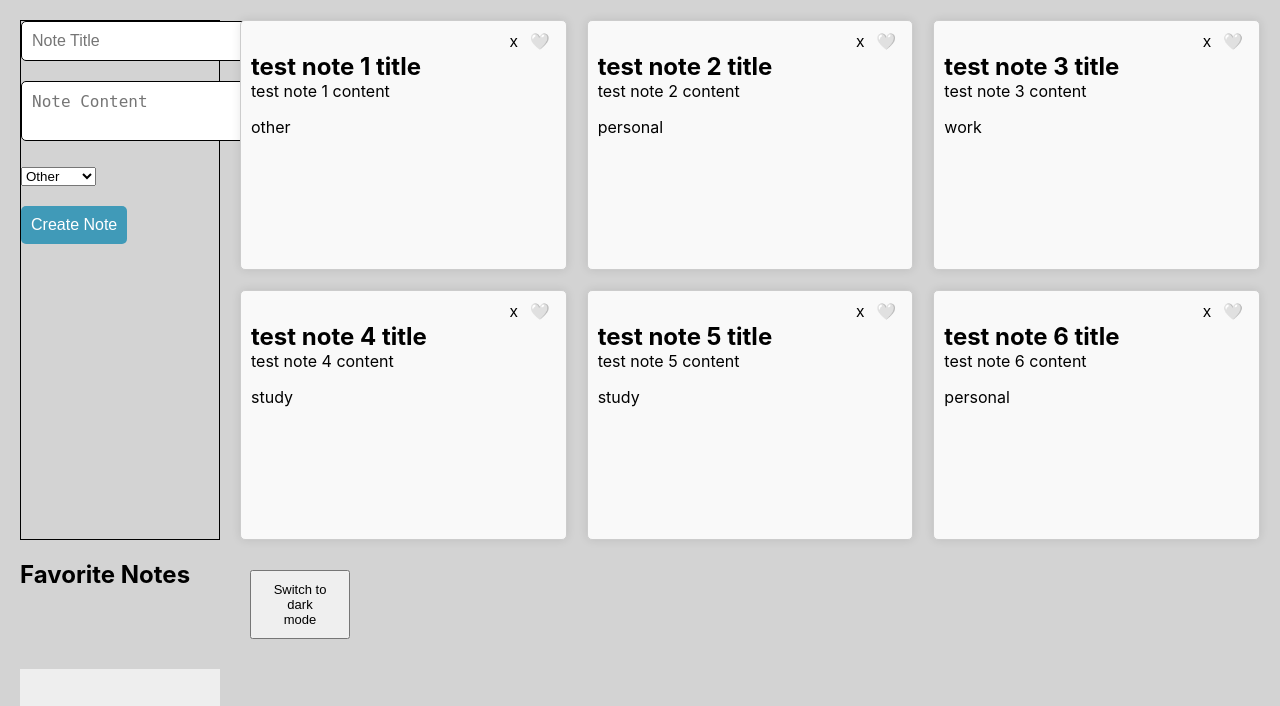
Test: Create StickyNote › updates a note title
Type "Old Title" into the field with placeholder "Note Title" at (136, 41), box x1=21 y1=21 x2=250 y2=61
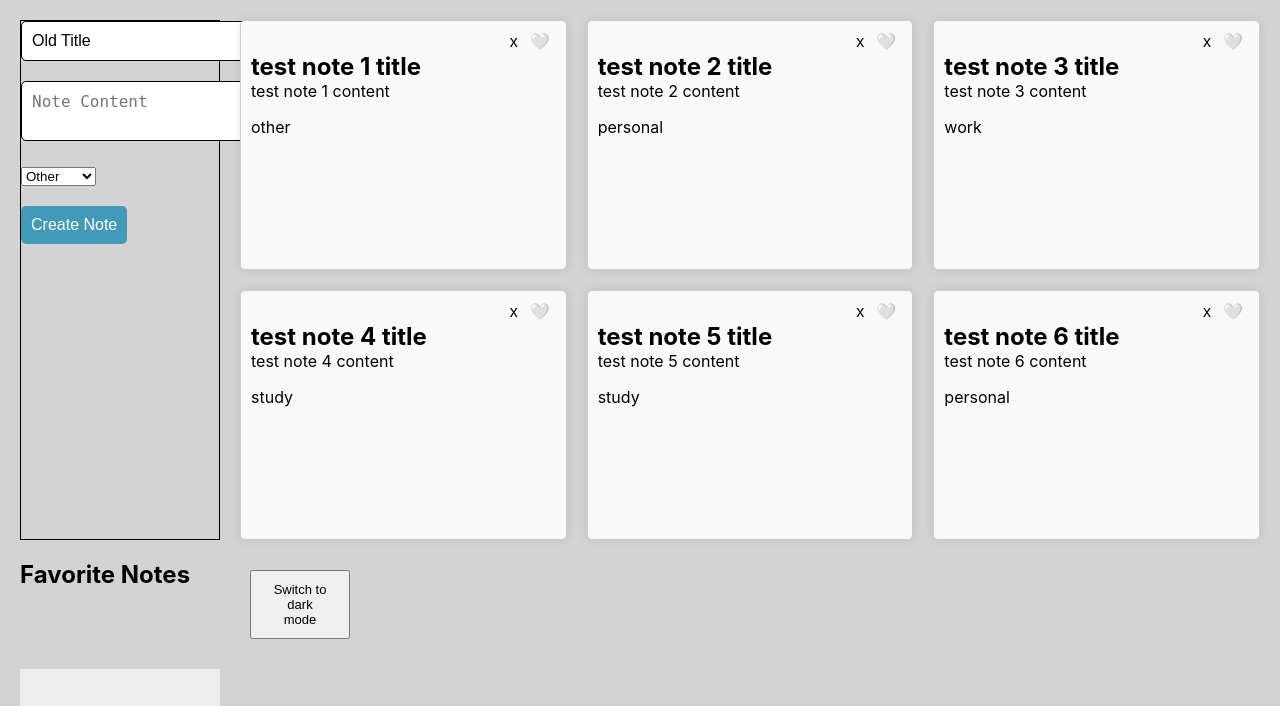
Type "Old Content" into the text box with placeholder "Note Content" at (140, 111), box x1=21 y1=81 x2=258 y2=141
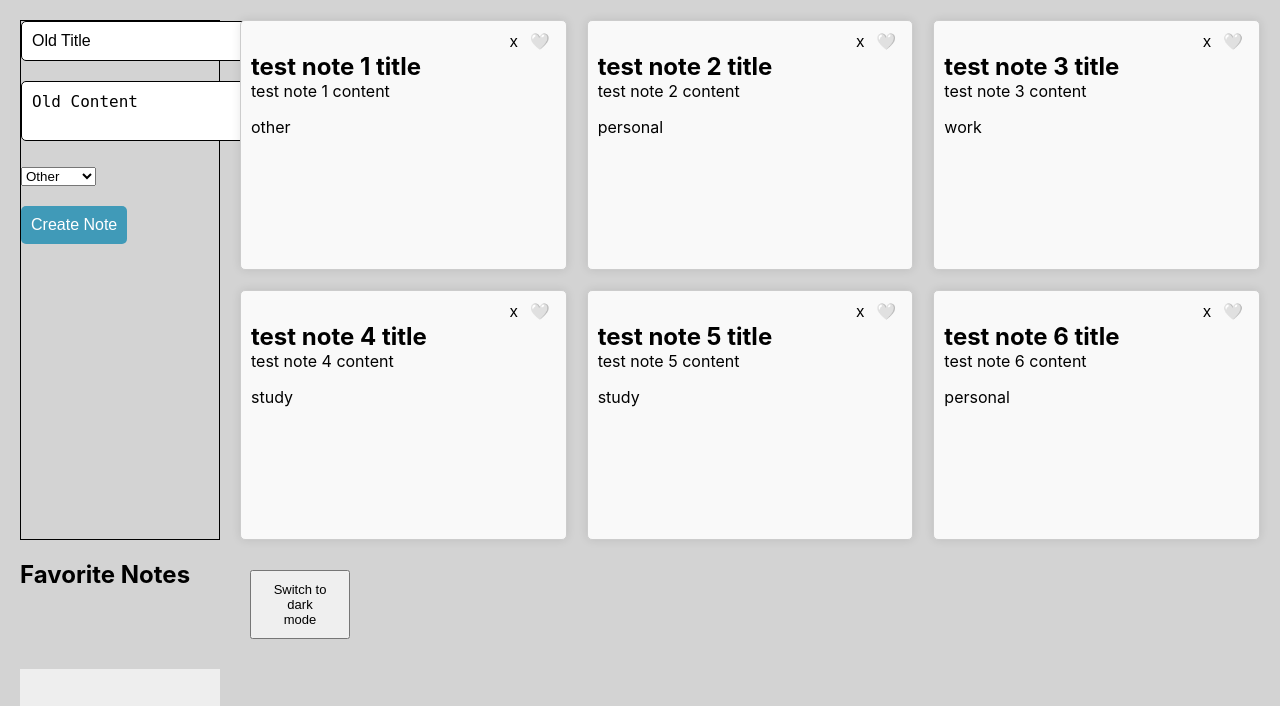
Click the button "Create Note" at (74, 225), box x1=21 y1=206 x2=127 y2=244
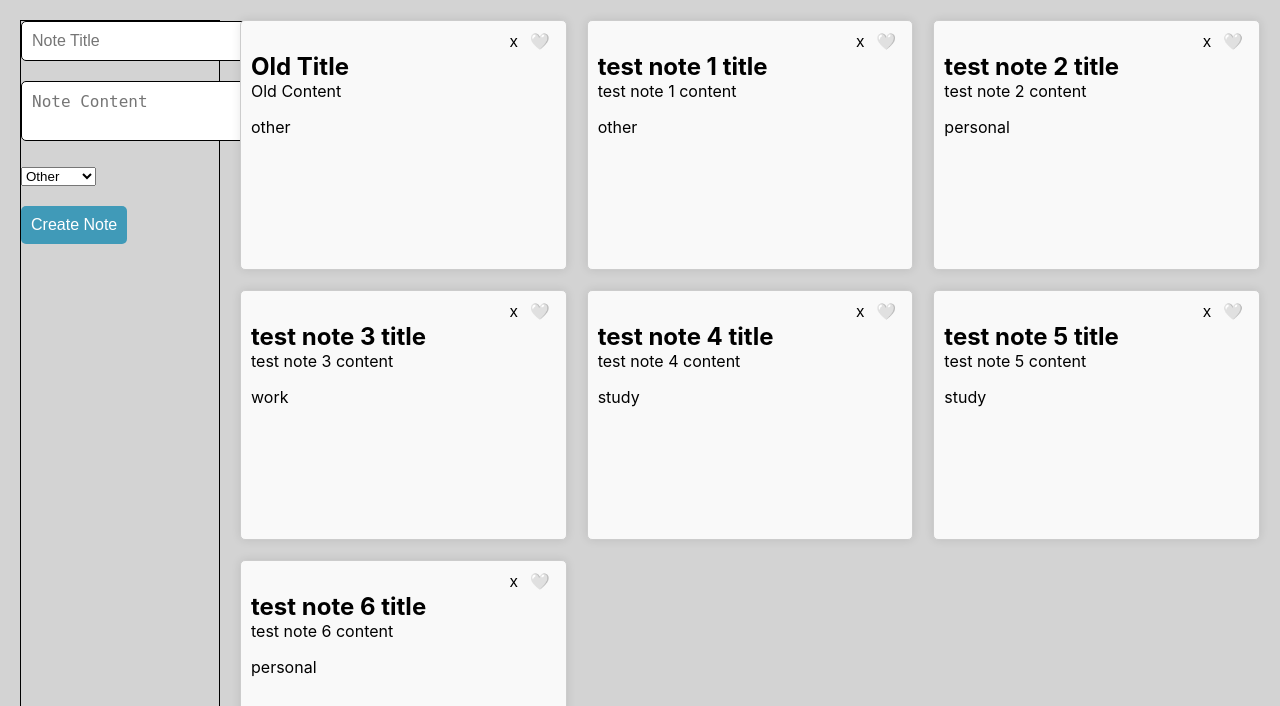
Leave the heading "Old Title", box x1=251 y1=52 x2=349 y2=81
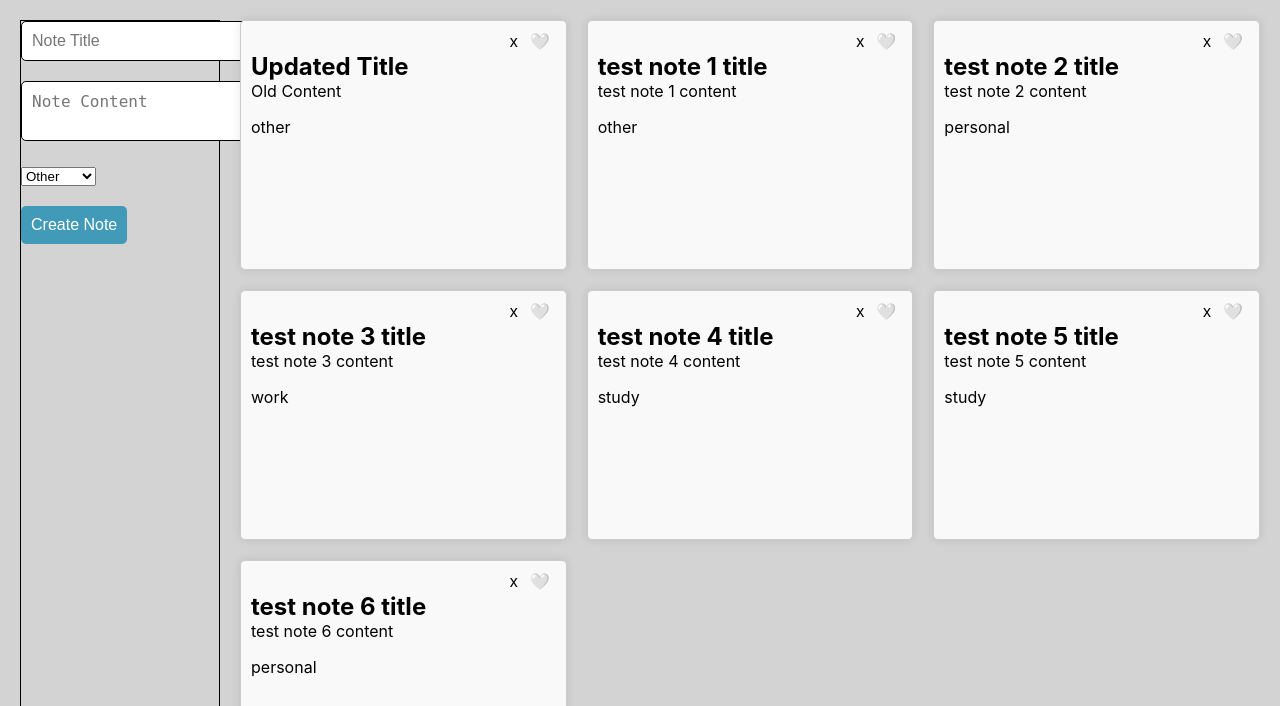
Check: the heading "Updated Title" is shown, box x1=251 y1=52 x2=409 y2=81
Check: the heading "Old Title" is gone
